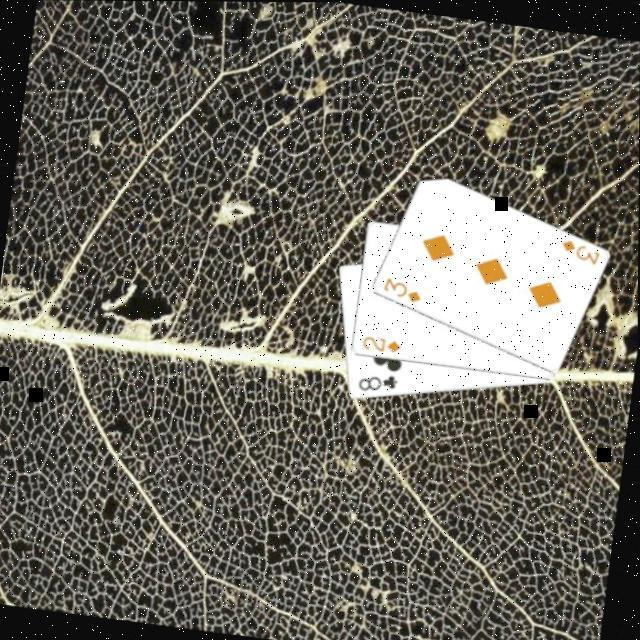2D: (357, 331, 403, 355)
3D: (378, 272, 425, 304), (555, 233, 602, 265)
8C: (353, 366, 400, 395)
